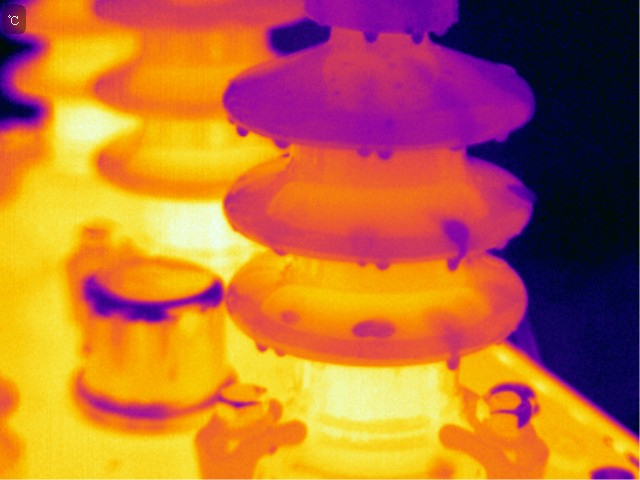Water: (437, 211, 470, 274), (505, 175, 548, 214), (349, 316, 399, 340), (441, 331, 464, 373), (277, 309, 302, 330), (351, 138, 370, 164), (407, 29, 428, 48), (359, 29, 381, 45), (270, 136, 294, 150), (376, 147, 397, 162), (235, 123, 252, 140), (375, 257, 391, 273), (254, 337, 269, 353), (272, 244, 289, 257), (494, 131, 508, 146), (275, 344, 287, 359)
